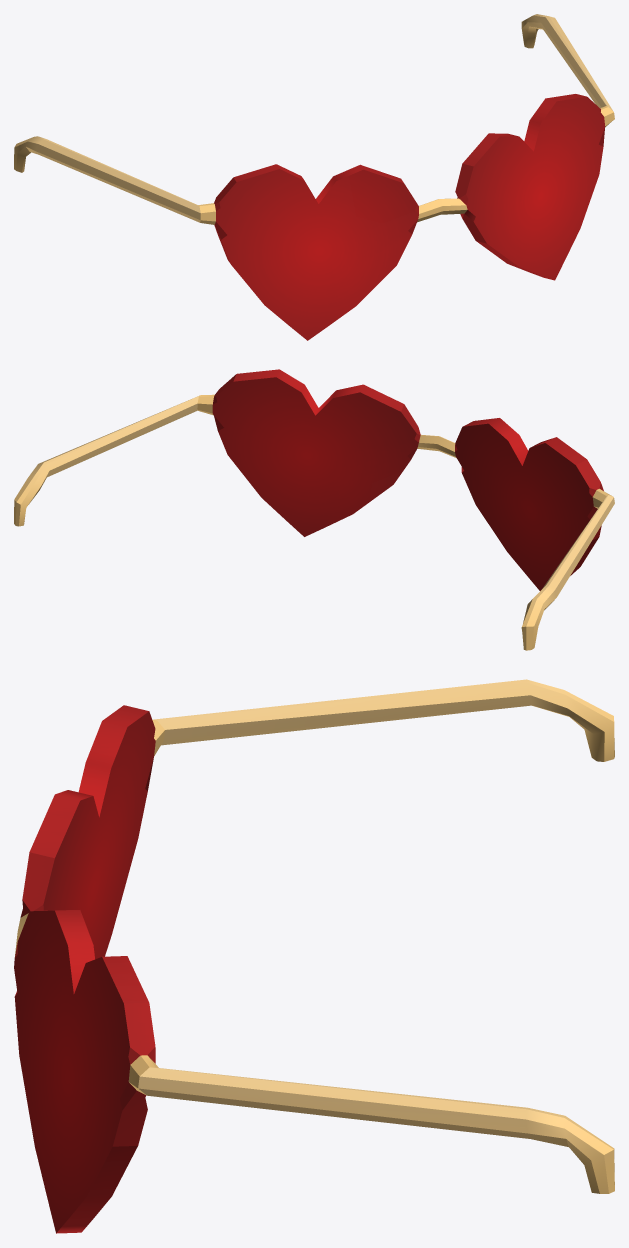
Rendered from face_heartglasses.fbx.
3 renders of one model, top to bottom at view 1: azimuth 30°, elevation 25°; view 2: azimuth 150°, elevation 25°; view 3: azimuth 270°, elevation 25°, orthographic. The views are drawn at different scales.
Visible parts, largest first — view 1: HeartGlasses_OBJ; view 2: HeartGlasses_OBJ; view 3: HeartGlasses_OBJ.
Boxes of the visible parts, left/top/right/bottom form: HeartGlasses_OBJ: left=14, top=14, right=614, bottom=340; HeartGlasses_OBJ: left=14, top=369, right=614, bottom=650; HeartGlasses_OBJ: left=14, top=679, right=614, bottom=1233.
Size of the model in its own units: 2.1 by 0.6435 by 1.2.
